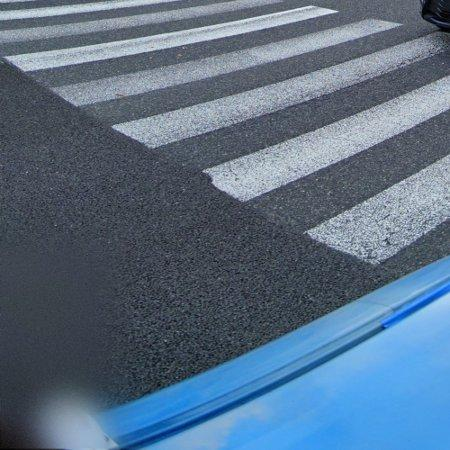crosswalks: (0, 0, 450, 270)
